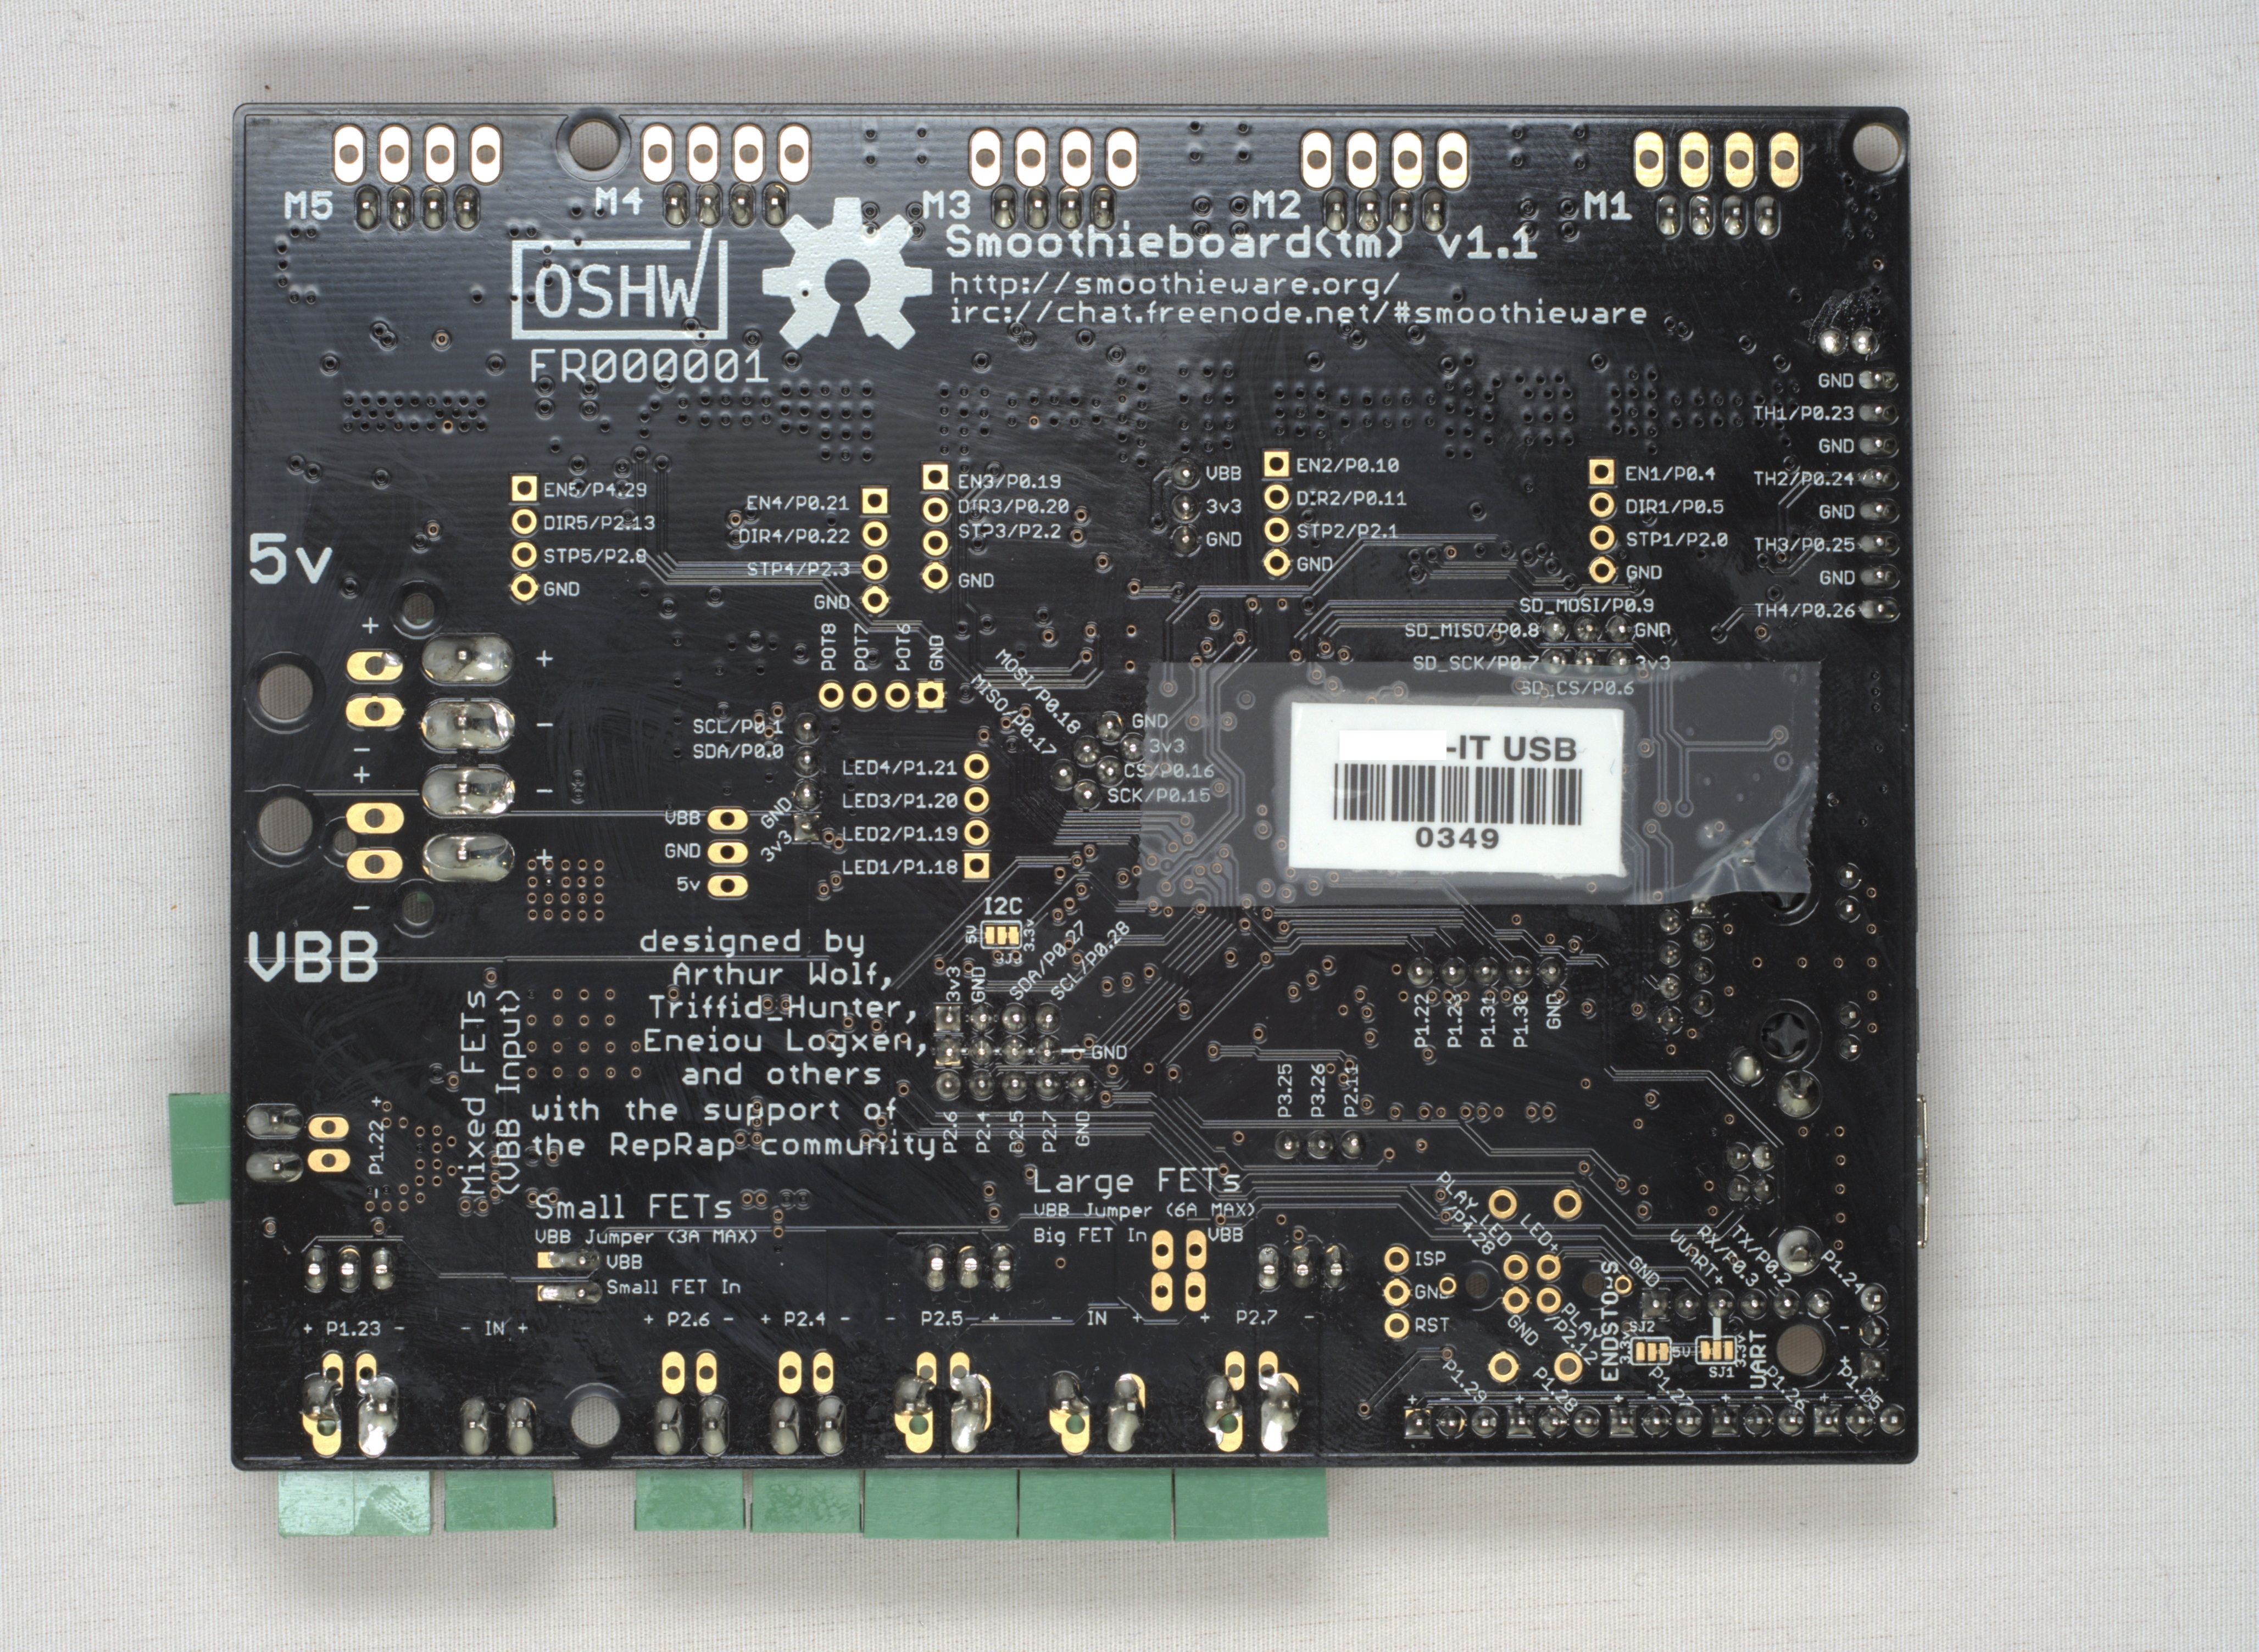connector unknown: (635, 117, 817, 189), (963, 123, 1142, 191), (326, 121, 509, 186), (1296, 128, 1477, 193), (1631, 126, 1803, 193), (342, 645, 409, 737), (344, 798, 403, 886), (816, 677, 949, 716), (505, 468, 542, 607), (1258, 445, 1294, 582), (917, 458, 952, 596), (1584, 451, 1619, 587), (1151, 1228, 1207, 1312), (859, 484, 894, 617), (705, 803, 751, 903), (961, 751, 993, 886), (1501, 1250, 1563, 1315), (1487, 1186, 1584, 1221), (1486, 1350, 1584, 1384), (1382, 1242, 1414, 1342), (773, 1350, 835, 1399), (303, 1114, 351, 1175), (658, 1350, 717, 1396)
pads ENDSTOPS: (1631, 1336, 1673, 1366)
pads I2C: (980, 921, 1023, 951)
pads UART: (1694, 1335, 1736, 1364)
pins M1: (1654, 191, 1782, 244)
pins M2: (1317, 186, 1450, 235)
pins M3: (987, 182, 1117, 231)
pins M4: (661, 179, 791, 230)
pins M5: (353, 184, 488, 233)
pins unknown: (419, 630, 516, 886), (1401, 1403, 1908, 1440), (889, 1349, 994, 1456), (296, 1350, 400, 1457), (1201, 1349, 1303, 1457), (1857, 365, 1899, 624), (1049, 710, 1149, 814), (1656, 887, 1715, 1047), (1045, 1370, 1147, 1457), (931, 1003, 1063, 1066), (931, 1066, 1098, 1105), (1638, 1289, 1835, 1321), (1403, 952, 1568, 989), (1540, 616, 1631, 677), (454, 1394, 540, 1459), (302, 1242, 400, 1296), (242, 1100, 305, 1184), (652, 1392, 730, 1461), (919, 1242, 1017, 1294), (768, 1396, 849, 1457), (1254, 1242, 1352, 1291), (531, 1250, 603, 1307), (793, 712, 823, 845), (1270, 1126, 1368, 1164), (1168, 456, 1203, 559), (1724, 1138, 1778, 1205), (1856, 1282, 1891, 1382), (1773, 1066, 1826, 1121), (1773, 1224, 1826, 1277), (1815, 323, 1882, 358), (1833, 858, 1864, 929), (1835, 994, 1866, 1066)
test point" unknown: (1614, 1275, 1633, 1296), (1438, 1275, 1456, 1296)
text "3.3v: (1023, 917, 1037, 954), (1619, 1329, 1631, 1366), (1735, 1335, 1747, 1370)
text "Big FET In: (1033, 1226, 1151, 1247)
text "CS/P0.16: (1122, 761, 1215, 780)
text "CTISL-IT USB: (1336, 730, 1580, 765)
text "DIR1/P0.5: (1622, 496, 1726, 517)
text "DIR2/P0.11: (1296, 488, 1407, 509)
text "DIR3/P0.20: (956, 496, 1070, 516)
text "DIR4/P0.22: (737, 526, 852, 547)
text "DIR5/P2.13: (542, 510, 656, 533)
text "EN1/P0.4: (1624, 461, 1717, 486)
text "EN2/P0.10: (1296, 452, 1401, 477)
text "EN3/P0.19: (956, 470, 1063, 491)
text "EN4/P0.21: (744, 493, 849, 514)
text "EN5/P4.29: (542, 479, 649, 502)
text "LED+: (1519, 1212, 1561, 1254)
text "LED1/P1.18: (840, 858, 961, 879)
text "LED2/P1.19: (840, 822, 961, 844)
text "LED3/P1.20: (840, 789, 961, 812)
text "LED4/P1.21: (838, 756, 959, 777)
text "Large FETs: (1028, 1166, 1244, 1201)
text "MISO/P0.17: (970, 672, 1059, 759)
text "MOSI/P0.18: (994, 647, 1082, 737)
text "Mixed FETs (VBB Input): (454, 986, 528, 1198)
text "P1.22: (1412, 991, 1433, 1052), (367, 1117, 386, 1175)
text "P1.23: (1443, 991, 1464, 1050), (324, 1319, 382, 1338)
text "P1.24: (1819, 1247, 1866, 1294)
text "P1.25: (1836, 1364, 1884, 1412)
text "P1.26: (1764, 1364, 1810, 1412)
text "P1.27: (1649, 1364, 1696, 1408)
text "P1.28: (1531, 1364, 1580, 1413)
text "P1.29: (1442, 1357, 1489, 1406)
text "P1.30: (1510, 991, 1529, 1049)
text "P1.31: (1477, 993, 1500, 1050)
text "P2.11: (1340, 1063, 1363, 1119)
text "P2.4: (782, 1307, 826, 1331), (975, 1110, 991, 1156)
text "P2.5: (919, 1308, 965, 1329), (1007, 1110, 1024, 1156)
text "P2.6: (665, 1308, 712, 1329), (940, 1110, 959, 1156)
text "P2.7: (1233, 1307, 1280, 1328), (1040, 1110, 1059, 1156)
text "P3.25: (1273, 1061, 1296, 1121)
text "P3.26: (1307, 1061, 1328, 1119)
text "PLAY/P2.12: (1543, 1301, 1603, 1370)
text "PLAY_LED/P4.28: (1433, 1168, 1512, 1256)
text "RX/P0.3: (1696, 1224, 1759, 1289)
text "SCK/P0.15: (1107, 786, 1212, 803)
text "SCL/P0.1: (691, 716, 786, 738)
text "SCL/P0.28: (1049, 921, 1131, 1001)
text "SDA/P0.0: (691, 740, 786, 763)
text "SDA/P0.27: (1008, 919, 1086, 1003)
text "SD_CS/P0.6: (1521, 677, 1636, 698)
text "SD_MISO/P0.8: (1403, 617, 1542, 640)
text "SD_MOSI/P0.9: (1517, 595, 1656, 617)
text "SD_SCK/P0.7: (1408, 652, 1540, 673)
text "STP1/P2.0: (1624, 528, 1729, 551)
text "STP2/P2.1: (1296, 523, 1401, 540)
text "STP3/P2.2: (956, 521, 1063, 540)
text "STP4/P2.3: (745, 558, 852, 579)
text "STP5/P2.8: (542, 545, 649, 566)
text "Small FET In: (605, 1275, 744, 1296)
text "Small FETs: (533, 1189, 737, 1222)
text "Smoothieboard(tm) v1.1: (944, 223, 1545, 267)
text "TH1/P0.23: (1750, 402, 1854, 424)
text "TH2/P0.24: (1752, 468, 1856, 488)
text "TH3/P0.25: (1754, 533, 1856, 554)
text "TH4/P0.26: (1754, 600, 1857, 619)
text "TX/P0.2: (1731, 1222, 1792, 1289)
text "VBB Jumper (3A MAX): (533, 1226, 759, 1249)
text "VBB Jumper (6A MAX): (1031, 1200, 1258, 1224)
text "VUART+: (1668, 1226, 1724, 1284)
text "designed by Arthur Wold, Triffid_Hunter, Eneiou Logxen, and others with th: (530, 921, 937, 1164)
text "http://smoothieware.org/: (945, 268, 1401, 303)
text "irc://chat.freenode.net/#smoothieware: (947, 295, 1649, 326)
text +: (358, 614, 381, 635), (533, 647, 556, 668), (351, 765, 374, 786), (533, 847, 556, 868), (300, 1319, 314, 1338), (370, 1093, 384, 1110), (1198, 1310, 1212, 1326), (516, 1321, 530, 1335), (1131, 1310, 1144, 1326), (987, 1312, 1001, 1324), (759, 1312, 772, 1326), (642, 1312, 654, 1326), (1514, 1392, 1526, 1405), (1407, 1392, 1419, 1405), (1819, 1392, 1831, 1403), (1719, 1392, 1731, 1403), (1612, 1392, 1624, 1403), (1838, 1356, 1850, 1366)
text -: (351, 742, 372, 756), (533, 717, 554, 731), (533, 782, 554, 796), (351, 901, 372, 915), (458, 1322, 474, 1335), (1836, 1321, 1850, 1333), (719, 1314, 735, 1324), (389, 1324, 407, 1333), (838, 1312, 851, 1324), (372, 1186, 381, 1201), (1840, 1392, 1856, 1401), (1535, 1394, 1550, 1403), (1436, 1394, 1452, 1403), (1049, 1314, 1063, 1322), (1301, 1312, 1315, 1321), (884, 1314, 896, 1322), (1752, 1394, 1764, 1401), (1645, 1394, 1657, 1401)
text 0349: (1414, 824, 1503, 854)
text 3v3: (759, 830, 793, 863), (1147, 735, 1186, 756), (1633, 654, 1671, 673), (1205, 496, 1244, 516), (944, 965, 961, 1003)
text 5V: (963, 922, 979, 945), (1671, 1345, 1691, 1357)
text 5v: (246, 528, 335, 595), (673, 875, 702, 894)
text ENDSTOPS: (1598, 1259, 1621, 1380)
text FR000001: (526, 347, 772, 386)
text GND: (759, 794, 795, 830), (1507, 1312, 1540, 1347), (1628, 1254, 1661, 1289), (1129, 710, 1170, 731), (661, 840, 705, 859), (1543, 991, 1563, 1033), (1817, 370, 1854, 391), (814, 591, 851, 612), (1817, 502, 1856, 521), (1817, 568, 1856, 587), (956, 570, 994, 589), (926, 633, 945, 672), (1072, 1110, 1091, 1149), (968, 965, 987, 1003), (1412, 1282, 1450, 1301), (1296, 554, 1333, 573), (1205, 530, 1242, 549), (544, 579, 581, 598), (1091, 1042, 1128, 1061), (1817, 437, 1856, 454), (1633, 621, 1671, 638), (1626, 563, 1663, 580)
text I2C: (980, 894, 1024, 917)
text IN: (482, 1317, 507, 1340), (1086, 1307, 1108, 1328)
text ISP: (1414, 1247, 1449, 1271)
text M1: (1580, 186, 1633, 223)
text M2: (1249, 186, 1303, 223)
text M3: (919, 186, 973, 223)
text M4: (591, 184, 644, 219)
text M5: (279, 186, 338, 223)
text OSHW: (531, 256, 709, 324)
text POT6: (893, 621, 916, 675)
text POT7: (852, 621, 872, 675)
text POT8: (817, 621, 838, 673)
text RST: (1415, 1314, 1450, 1335)
text SJ1: (1708, 1364, 1736, 1380)
text SJ2: (1628, 1319, 1656, 1333)
text UART: (1747, 1328, 1766, 1389)
text VBB: (242, 926, 384, 986), (1203, 461, 1242, 484), (1207, 1222, 1244, 1245), (605, 1250, 644, 1271), (665, 807, 702, 828)
